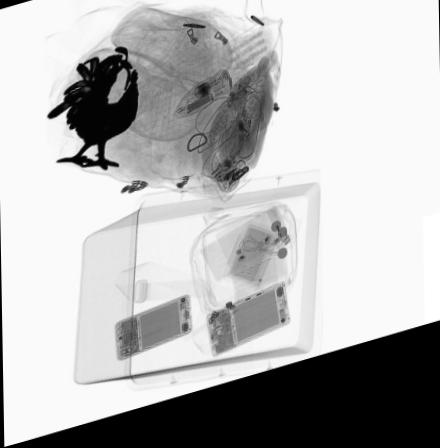Lighter: (266, 217, 292, 262)
